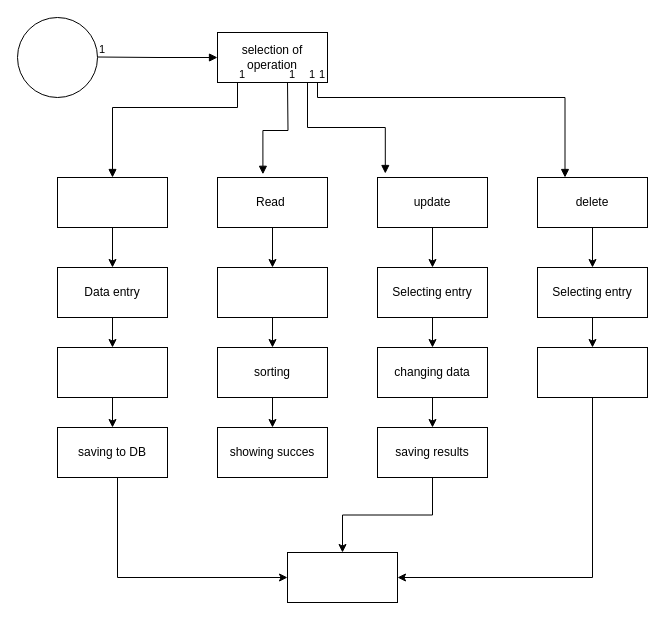
Some shapes in this 665 by 620 pixel diagram are drawn without their labels. Each missing label, with the centre of its shape:
"check format" goes at [112,372].
"Create" goes at [112,202].
"data selsction" goes at [272,292].
"deleting" goes at [592,372].
"Notification of succes" goes at [342,577].
"start menu" goes at [57,57].
